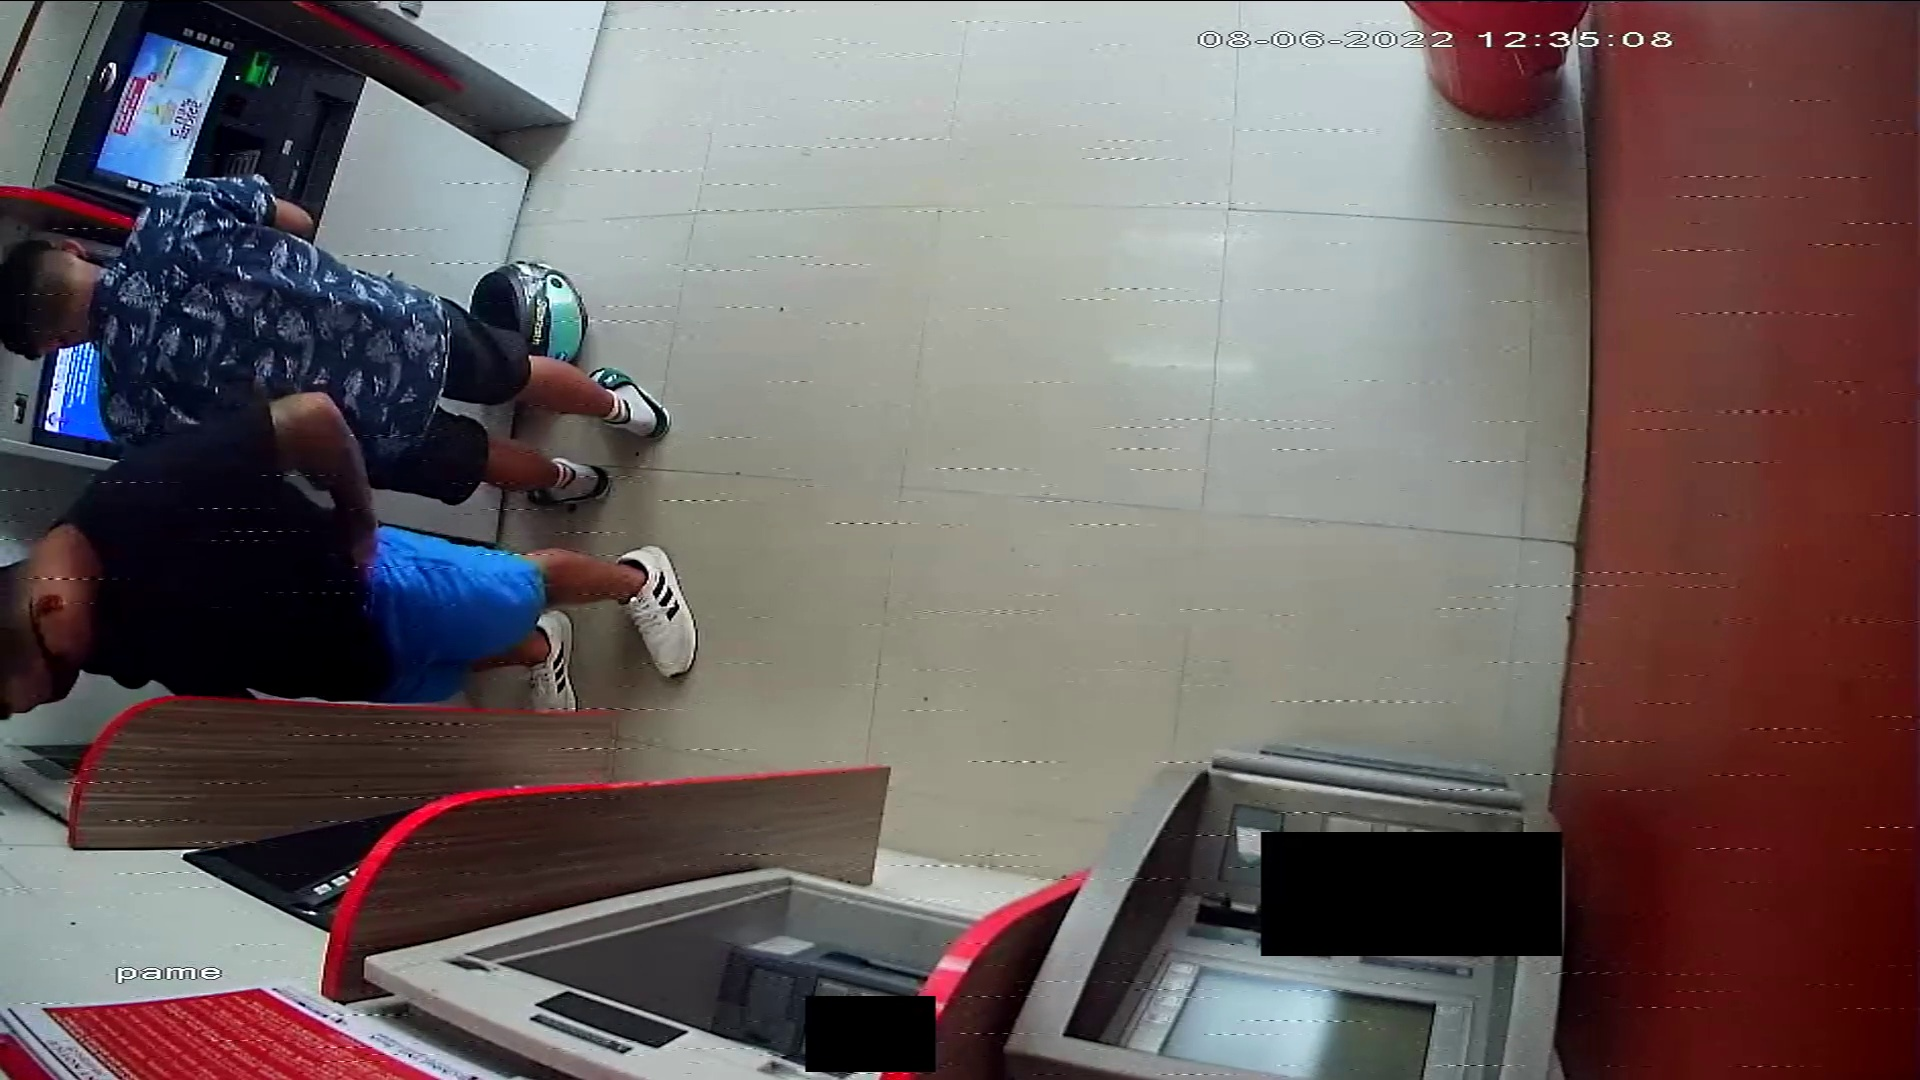helmet: (473, 256, 589, 362)
person: (1, 172, 669, 506), (1, 396, 703, 712)
